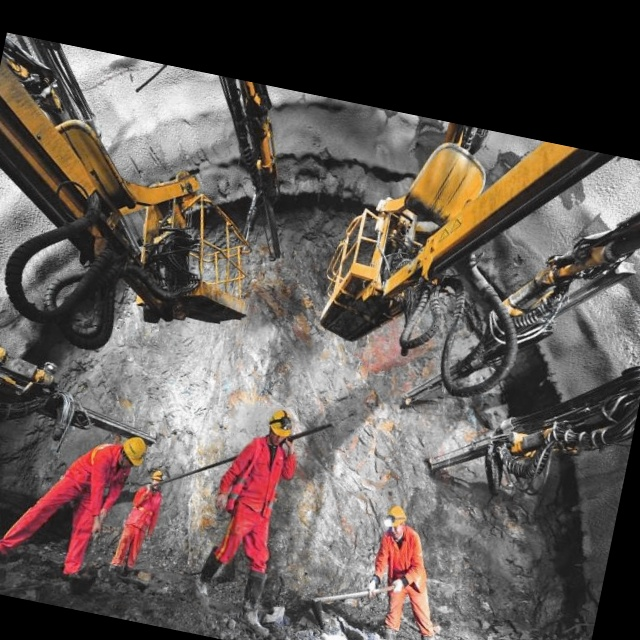Con_Casco: (118, 432, 150, 475), (266, 407, 295, 441), (381, 502, 408, 536)
Con_Chaleco: (230, 435, 290, 522)
